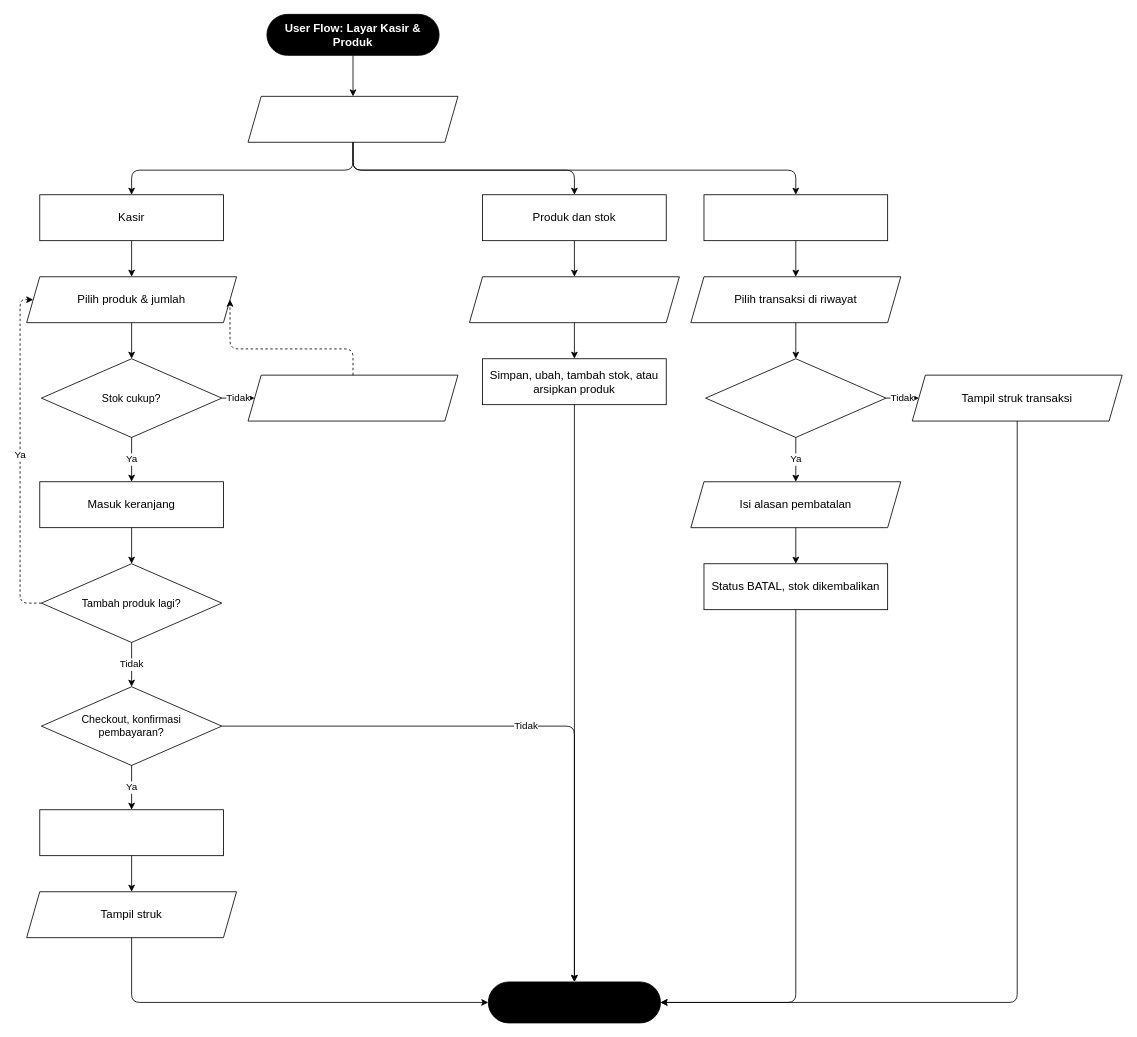
The diagram is 1137 pixels wide and 1037 high, and some of its shapes have lost their labels. Each missing label, with the centre of its shape:
"Batalkan transaksi?" goes at point 795,397.
"Isi data produk atau jumlah stok" goes at point 574,299.
"Riwayat" goes at point 795,217.
"Selesai" goes at point 574,1002.
"Simpan transaksi, stok berkurang" goes at point 131,832.
"Tampil pesan stok tidak cukup" goes at point 352,397.
"User memilih tab" goes at point 352,119.
